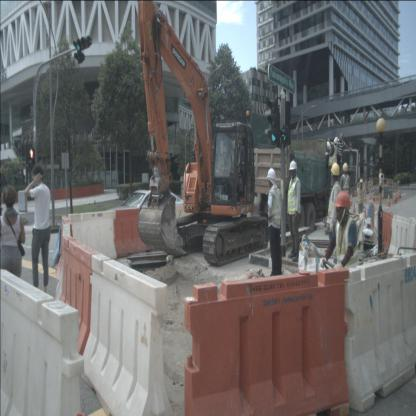human-pedestrian-adult: (25, 166, 54, 297), (0, 184, 27, 319), (334, 133, 353, 180), (407, 174, 409, 187)
movable_object-barrier: (179, 266, 350, 416), (81, 252, 176, 415), (0, 264, 87, 416), (339, 251, 415, 415), (57, 235, 100, 369), (67, 210, 117, 266), (113, 206, 165, 254), (165, 202, 203, 248), (389, 212, 415, 271), (55, 224, 75, 286), (53, 214, 70, 277), (376, 208, 393, 260), (370, 202, 379, 235), (367, 181, 372, 193), (365, 182, 369, 194)
movable_object-trafficcone: (362, 198, 367, 221), (352, 203, 357, 221), (386, 192, 391, 208), (350, 193, 354, 208), (368, 191, 372, 205), (393, 192, 397, 205), (372, 190, 376, 202), (363, 192, 367, 204), (397, 190, 399, 201), (399, 190, 401, 199)
vehicle-car: (104, 190, 184, 238)
vehicle-truck: (247, 138, 359, 234)
